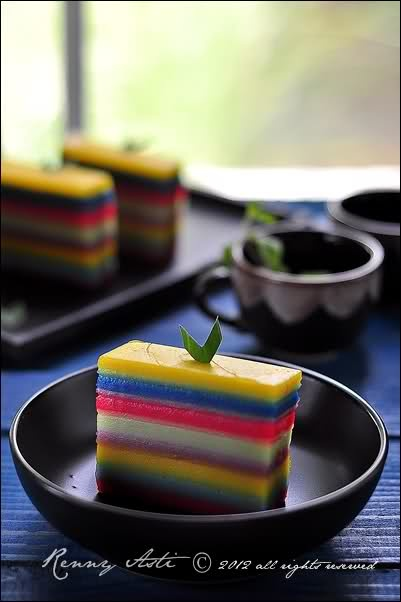kue_lapis_pelangi: (94, 340, 283, 516)
